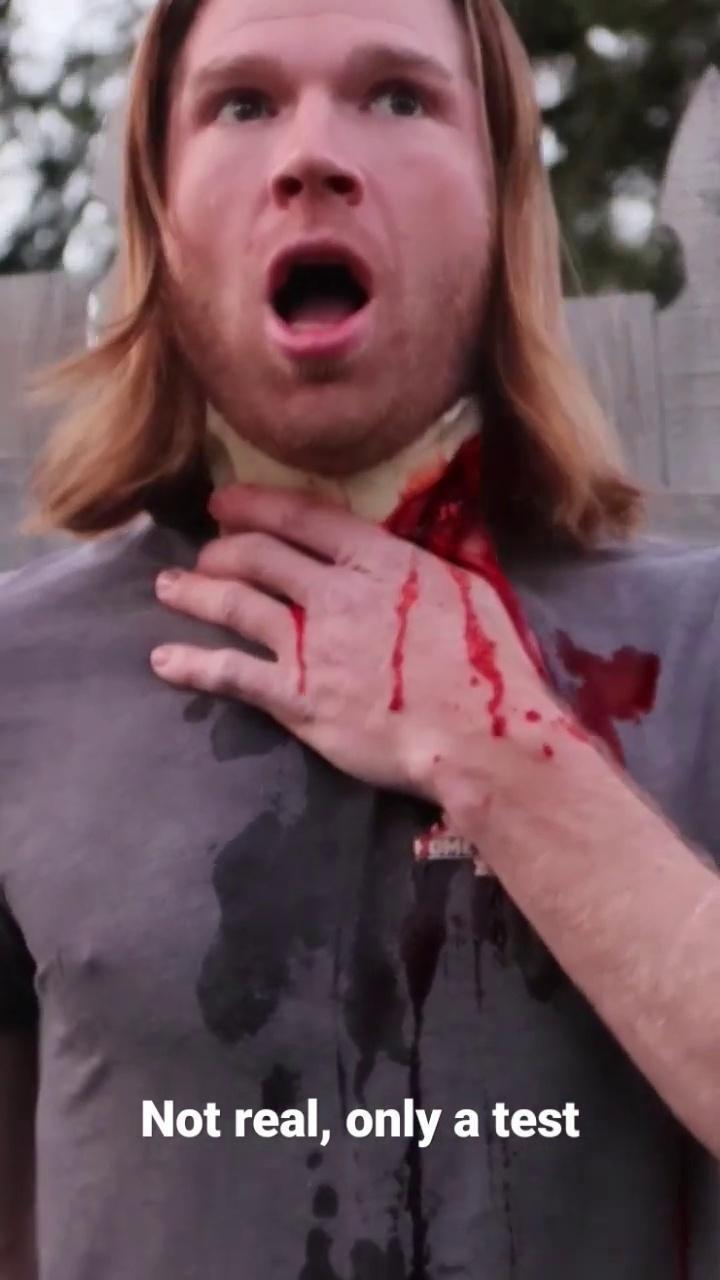Fire: (294, 542, 578, 814), (384, 435, 546, 676), (557, 631, 660, 766), (415, 838, 468, 860)
